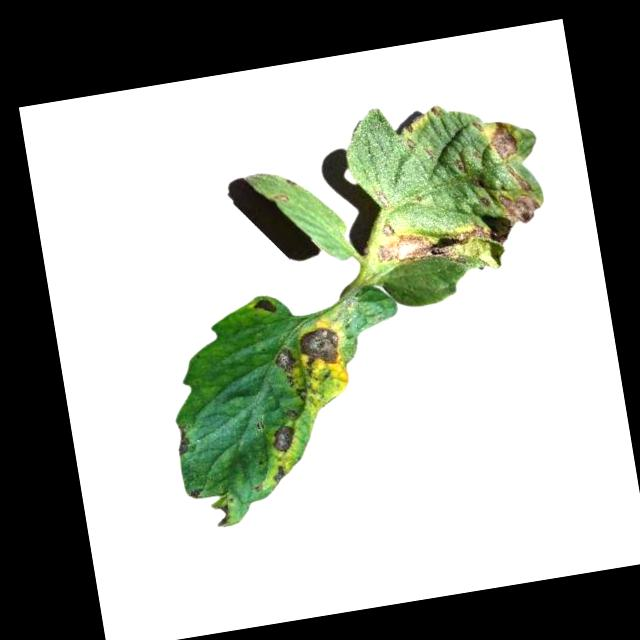Early_blight: (373, 223, 496, 273), (496, 163, 543, 226), (297, 326, 341, 369), (487, 118, 521, 165), (269, 422, 300, 456), (173, 426, 194, 457), (274, 348, 295, 375), (211, 504, 232, 530), (252, 298, 277, 319), (270, 462, 288, 487), (188, 486, 203, 503), (380, 224, 397, 238), (455, 160, 467, 175)
